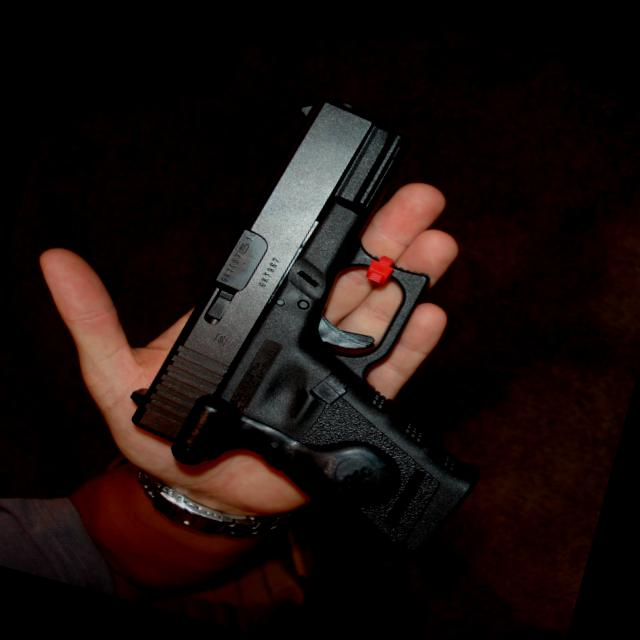handgun: (98, 59, 580, 579)
